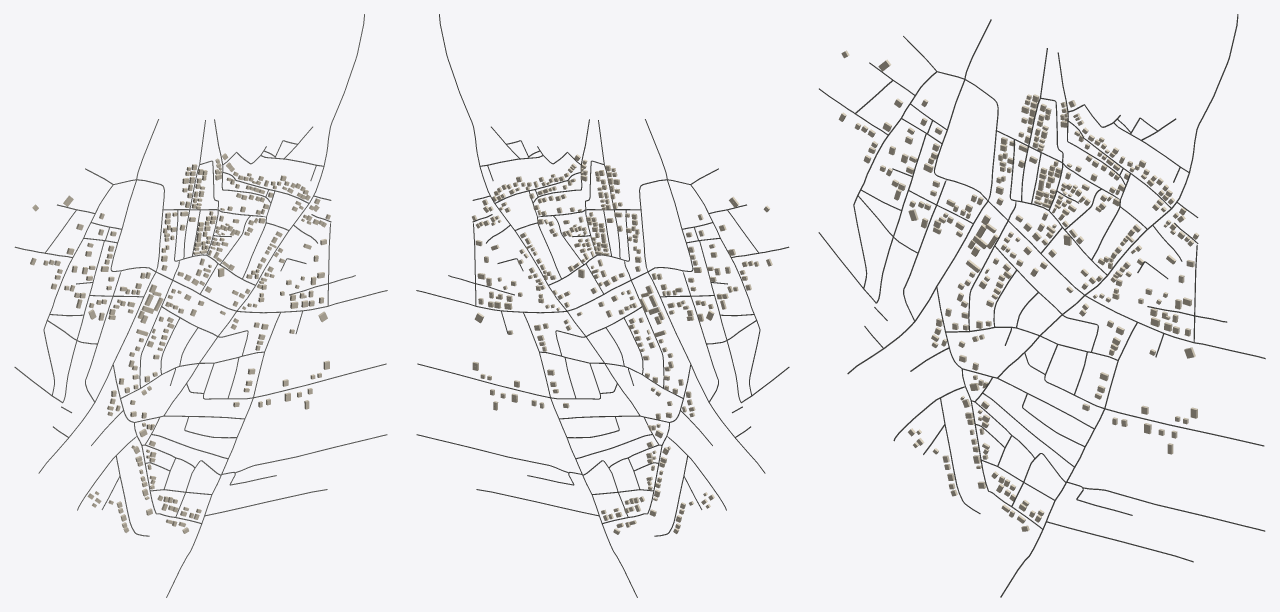
The model's file is madaba_3578_3170.glb.
The picture shows the model from 3 angles, left to right: view 1: azimuth 30°, elevation 25°; view 2: azimuth 150°, elevation 25°; view 3: azimuth 330°, elevation 25°; orthographic projection. The views are drawn at different scales.
Parts seen in each view (by area): view 1: Road شارع ابن خلدون; view 2: Road شارع ابن خلدون; view 3: Road شارع ابن خلدون, Road .025, Road, Road .032.
Part boxes in pixels (<box>): Road شارع ابن خلدون: <box>163,14,364,415</box>; Road شارع ابن خلدون: <box>439,14,640,415</box>; Road شارع ابن خلدون: <box>997,14,1238,378</box>; Road .025: <box>903,19,991,320</box>; Road: <box>903,36,1084,295</box>; Road .032: <box>1000,322,1137,597</box>.
Bounding box in the file's own units: 1179 × 1616 × 8.7.
